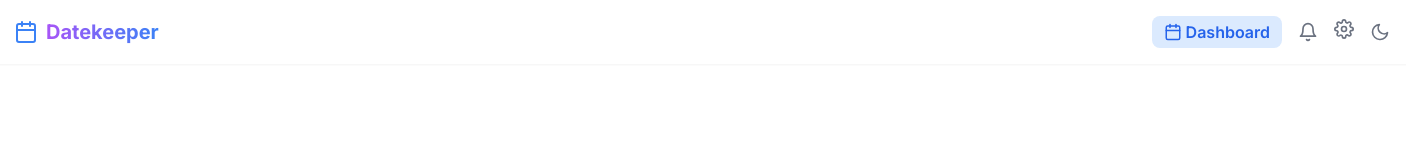
AuthenticatedHeader › User Menu - Settings Icon › should toggle menu when settings icon is clicked (no user image)
The width and height of the screenshot is (1406, 162).
Expected: the text "Settings" is not shown
# Click settings icon to open menu
Click the 3rd button at (1344, 29), box 1334,19 -> 1354,39
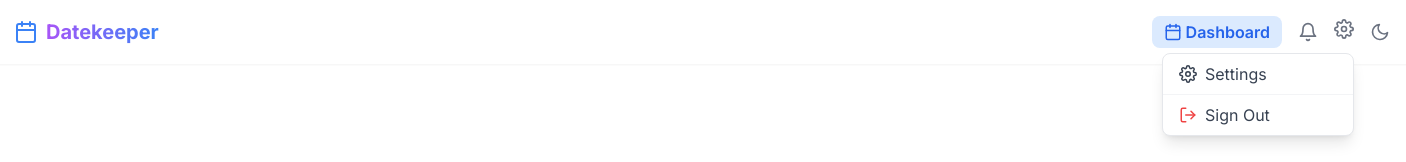
Now the button "Settings" is shown, box 1163,54 -> 1353,94
Now the button "Sign Out" is shown, box 1163,94 -> 1353,135
